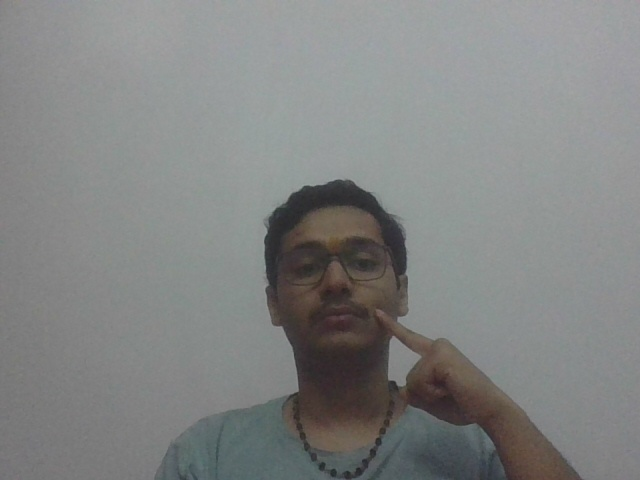I: (374, 305, 513, 437)
